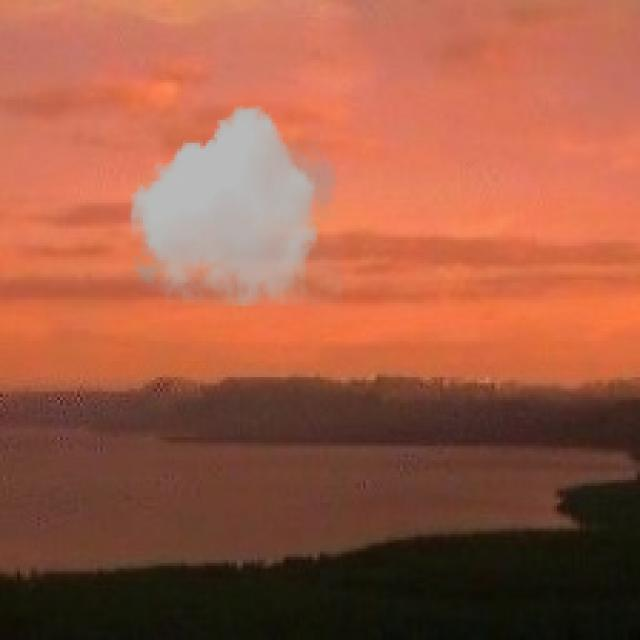Smoke: (126, 106, 343, 306)
